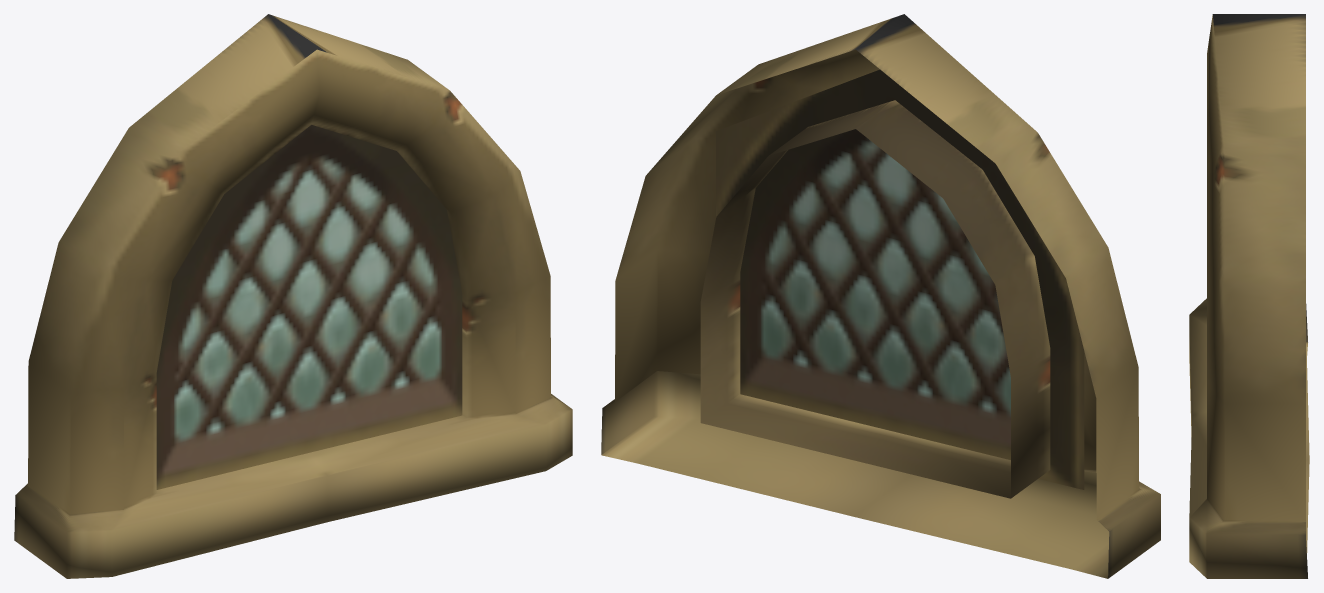
File: window-4.FBX
3 views of the same model, side by side, from view 1: azimuth 30°, elevation 25°; view 2: azimuth 150°, elevation 25°; view 3: azimuth 270°, elevation 25° (orthographic). The views are drawn at different scales.
Parts seen in each view (by area): view 1: window-4; view 2: window-4; view 3: window-4.
Part boxes in pixels (bbox=[...]): window-4: bbox=[14, 14, 572, 578]; window-4: bbox=[601, 14, 1160, 578]; window-4: bbox=[1189, 14, 1309, 578].
Bounding box in the file's own units: 328 × 288 × 70.39.
